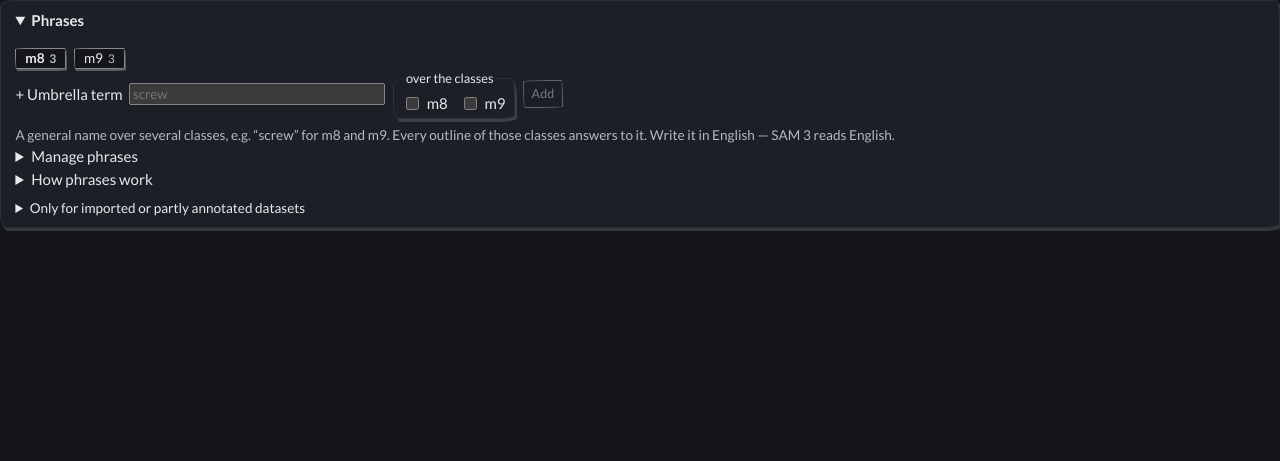
Scenario: PhraseBar (doc 116) › Mark the rest lives with the checks
Click the heading "Only for imported or partly annotated datasets" at (167, 208), box top-left (30, 200), bottom-right (305, 216)
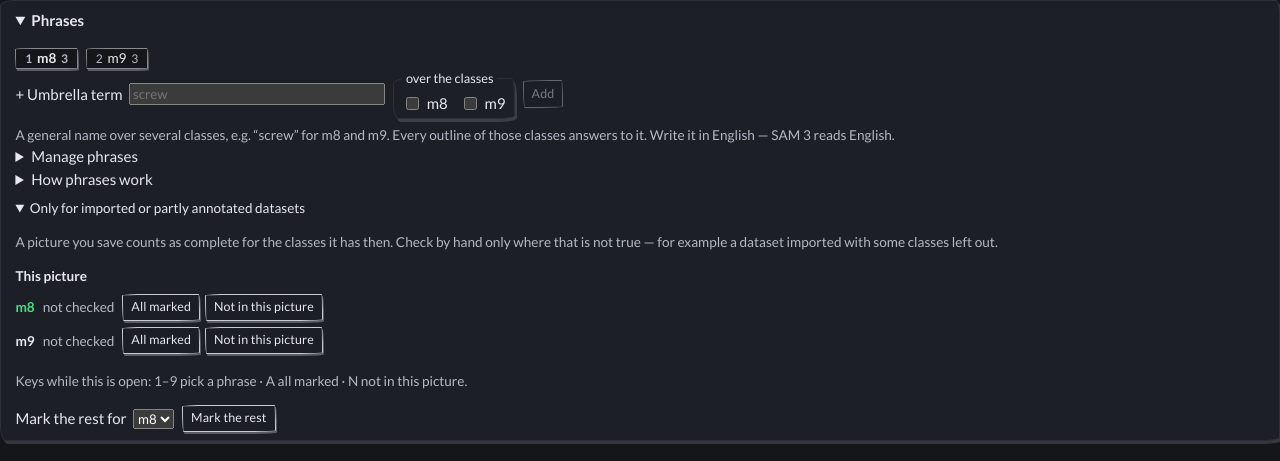
Select "m9" in the dropdown labelled "Mark the rest for" at (154, 419), box top-left (133, 409), bottom-right (174, 429)
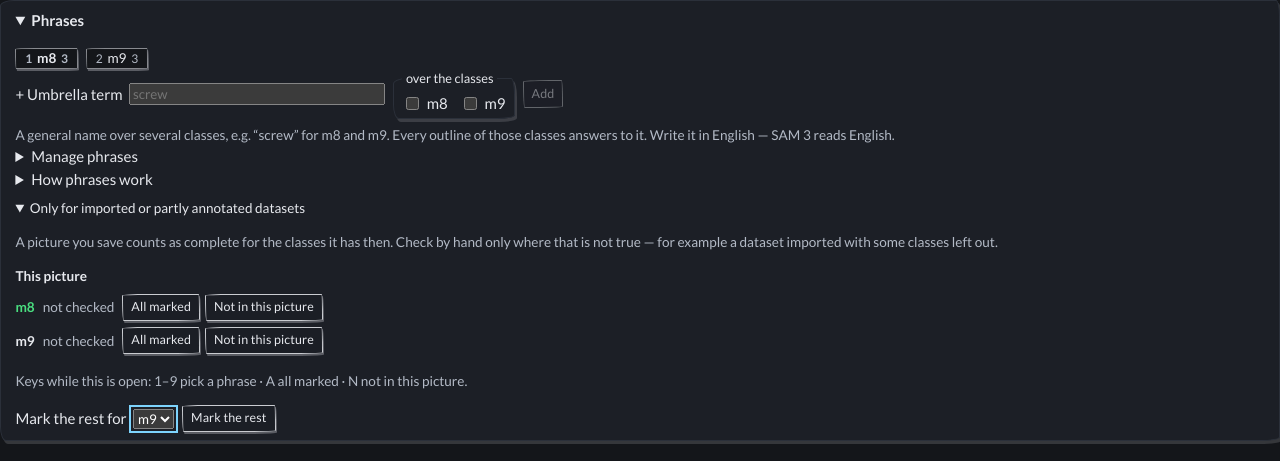
Click the button "Mark the rest" at (229, 419), box top-left (182, 405), bottom-right (276, 432)
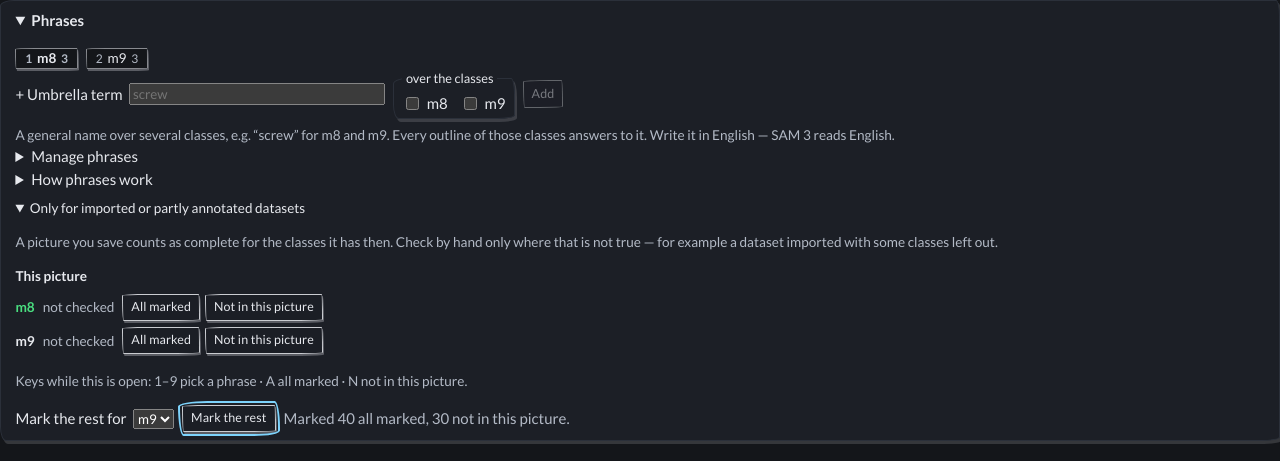
Expected: the text "Marked 40 all marked, 30 not in this picture." is shown, top-left (284, 407), bottom-right (570, 430)
